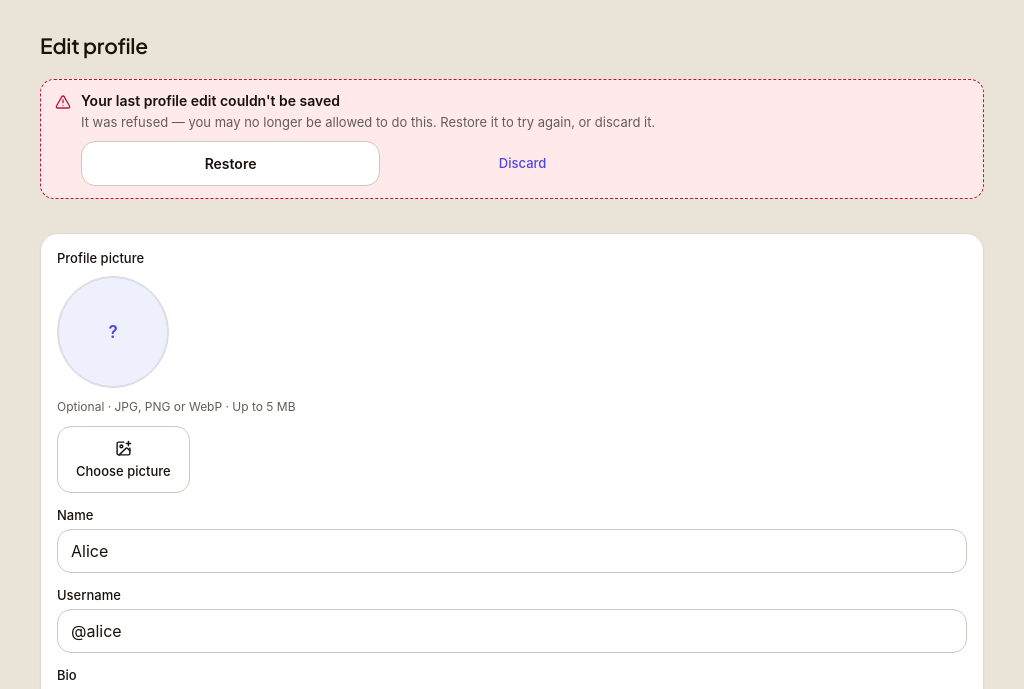
it: editing the profile › a refused profile edit is offered back
Expected: the message shows "Your last profile edit couldn't be saved", left=81, top=92, right=340, bottom=109
Click the button "Restore" at {"x": 231, "y": 163}, box left=81, top=141, right=380, bottom=186
(page scrolled)
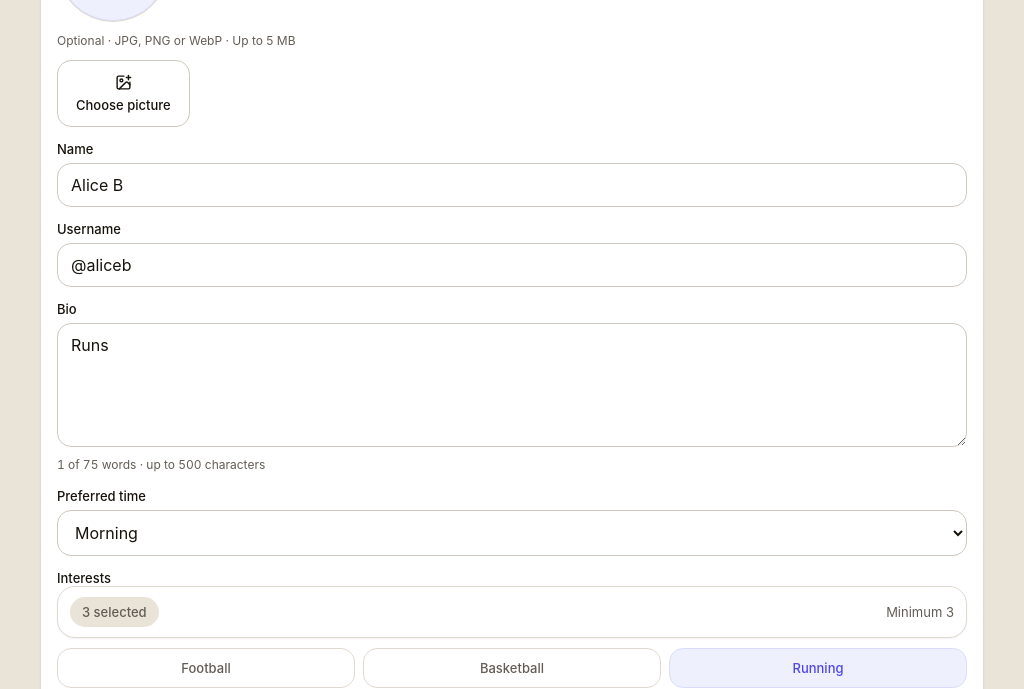
Now the field labelled "Name" holds "Alice B", box left=57, top=163, right=967, bottom=207
Now the text box labelled "Bio" holds "Runs", box left=57, top=323, right=967, bottom=447
